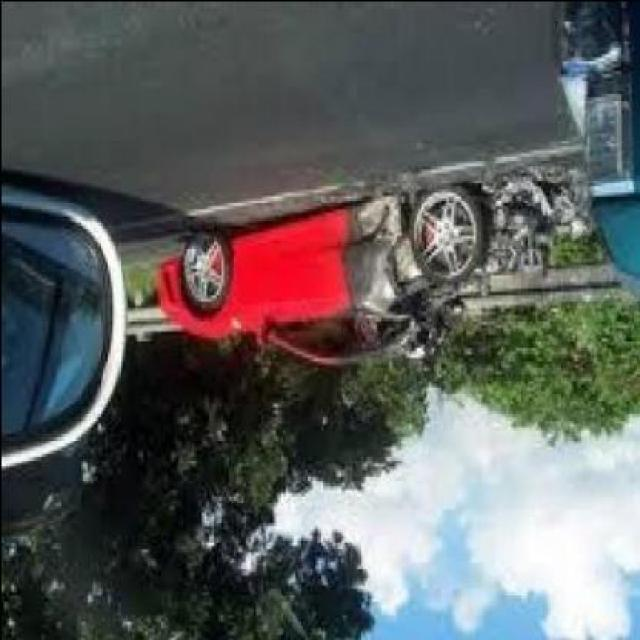damage: (340, 173, 587, 358)
